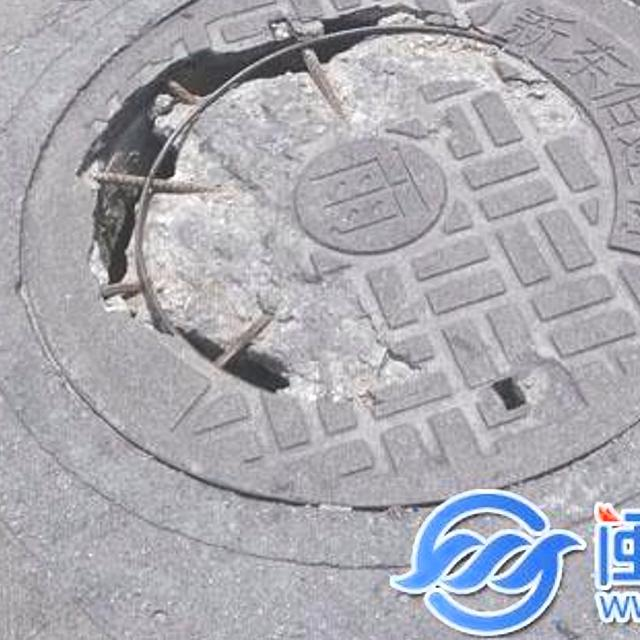broke: (0, 0, 640, 527)
